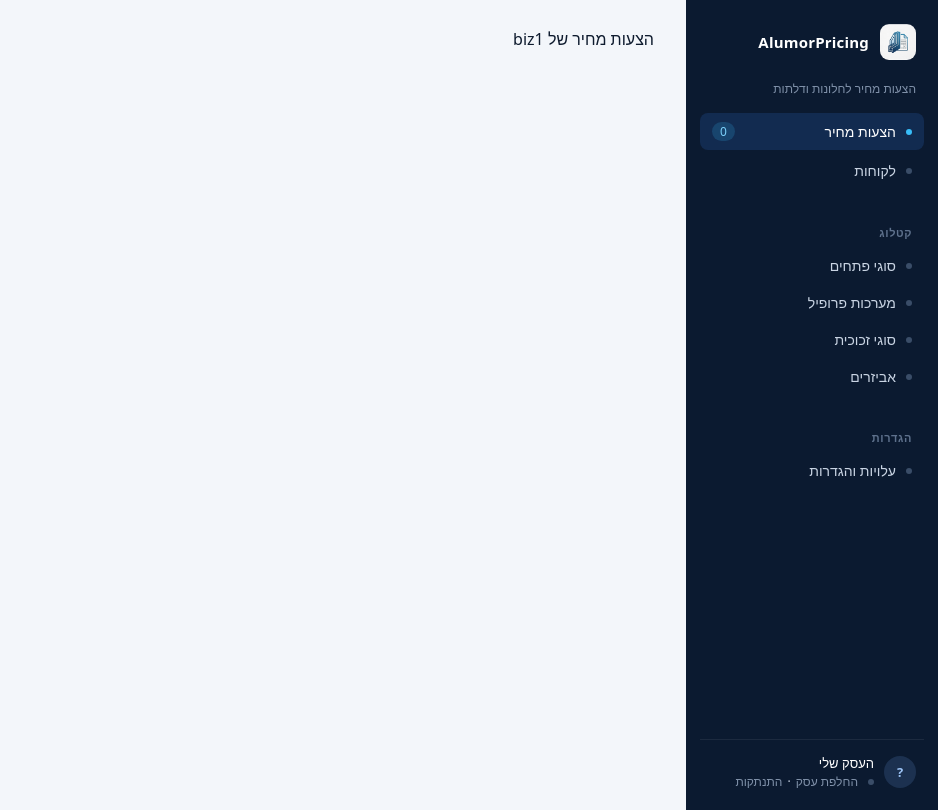
Test: AppShell — "החלפת עסק" reaches the business picker › shows the business list instead of redirecting back, even with one business
Expected: the text "הצעות מחיר של biz1" is shown, [513,28,654,50]
Click the link "החלפת עסק" at [835, 782], box [796,773,874,790]
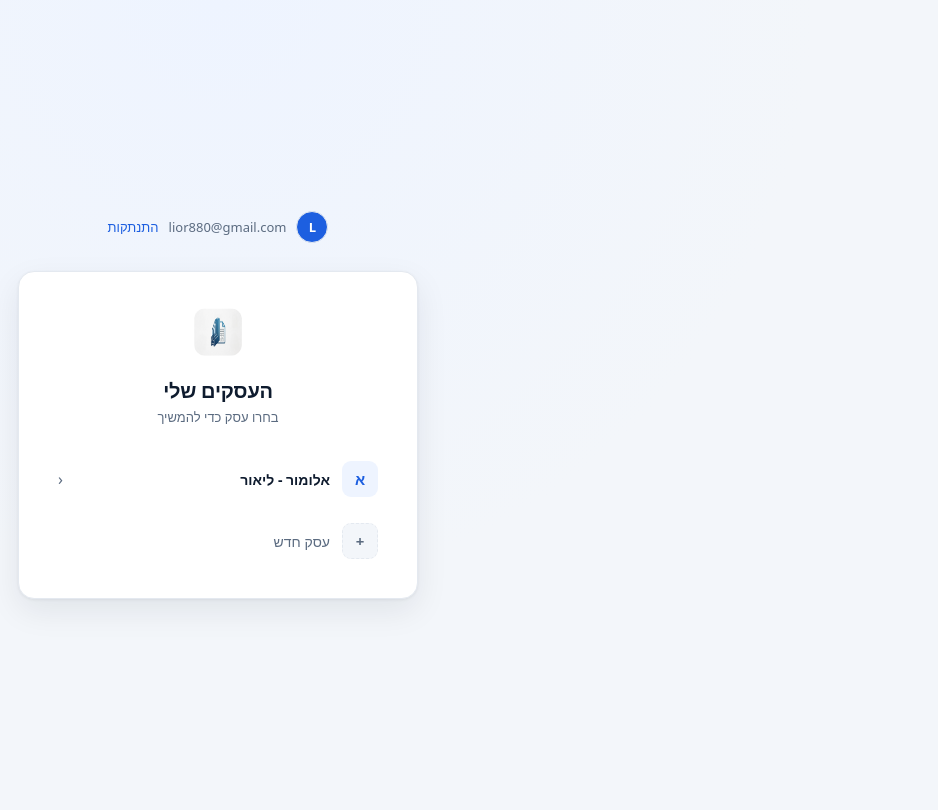
Now the text "אלומור - ליאור" is shown, box [240,470,330,488]
Now the text "הצעות מחיר של biz1" is gone
